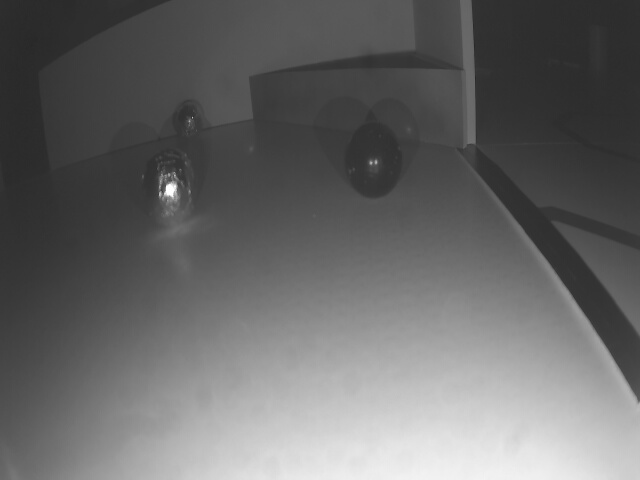Dead: (345, 125, 403, 199)
Green: (249, 73, 466, 149)
Live: (138, 154, 198, 231), (175, 103, 206, 142)
